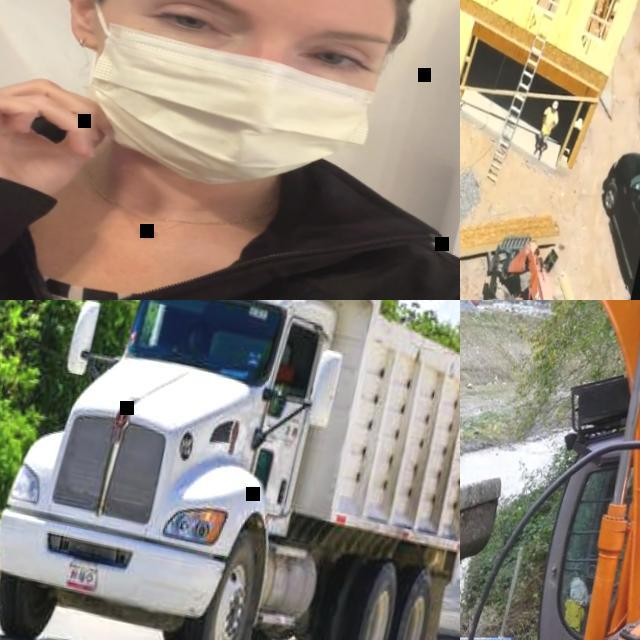helmet: (552, 100, 560, 110)
vest: (542, 109, 558, 133)
